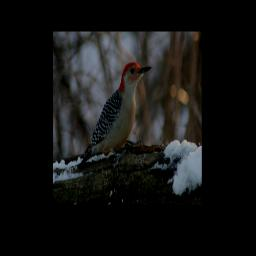Woodpecker: (78, 62, 153, 168)
